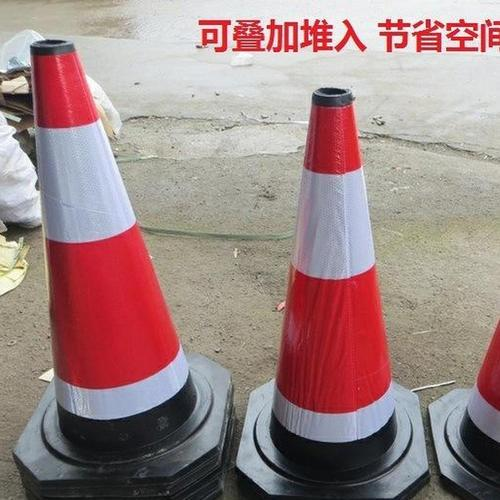cone_barrel: (5, 43, 208, 460), (247, 92, 418, 484), (445, 314, 499, 491)
